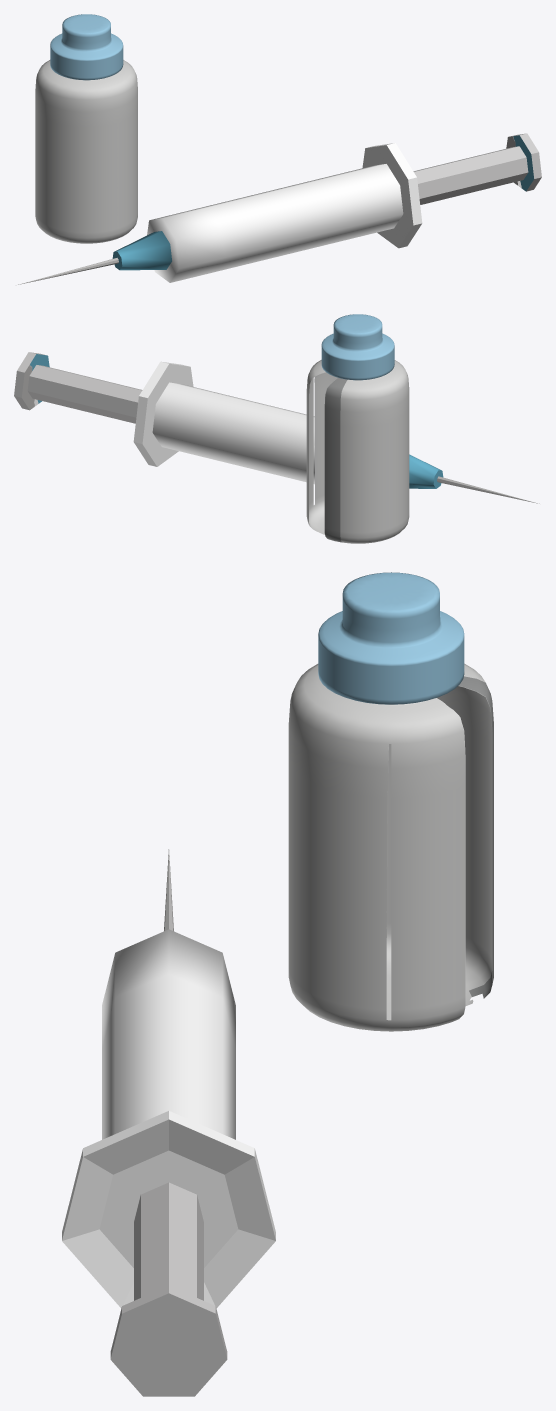
The model's file is anestesia.FBX.
3 renders of one model, top to bottom at view 1: azimuth 30°, elevation 25°; view 2: azimuth 150°, elevation 25°; view 3: azimuth 270°, elevation 25°, orthographic. The views are drawn at different scales.
Visible parts, largest first — view 1: Xeringa, Anestesia bote; view 2: Anestesia bote, Xeringa; view 3: Anestesia bote, Xeringa.
Boxes of the visible parts, box(x1,y1,x2,y2) form: Xeringa: box(16, 133, 541, 285); Anestesia bote: box(35, 14, 137, 243); Anestesia bote: box(306, 314, 409, 543); Xeringa: box(14, 352, 539, 503); Anestesia bote: box(288, 572, 493, 1031); Xeringa: box(62, 849, 275, 1396).
Bounding box in the file's own units: 65.29 × 28.59 × 23.8.
